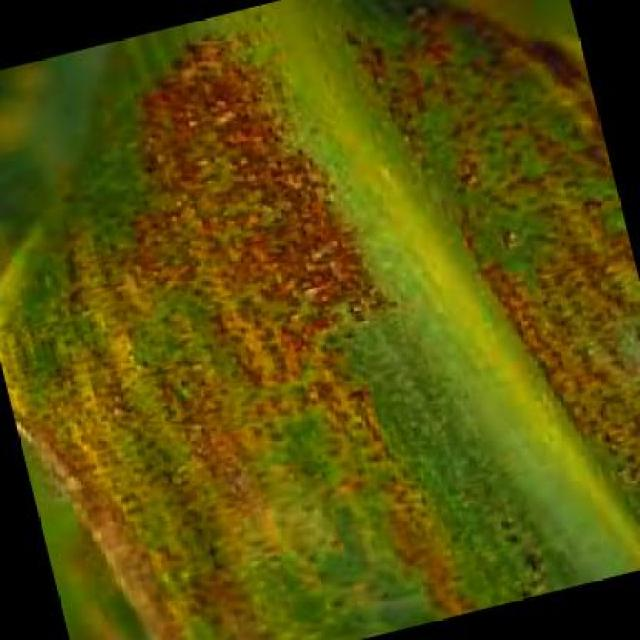Corn_Rust: (55, 57, 583, 581)
